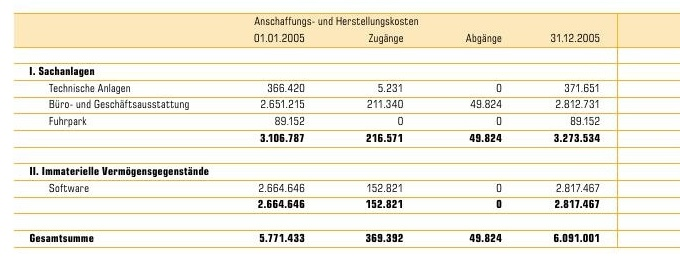table: (0, 0, 680, 261)
